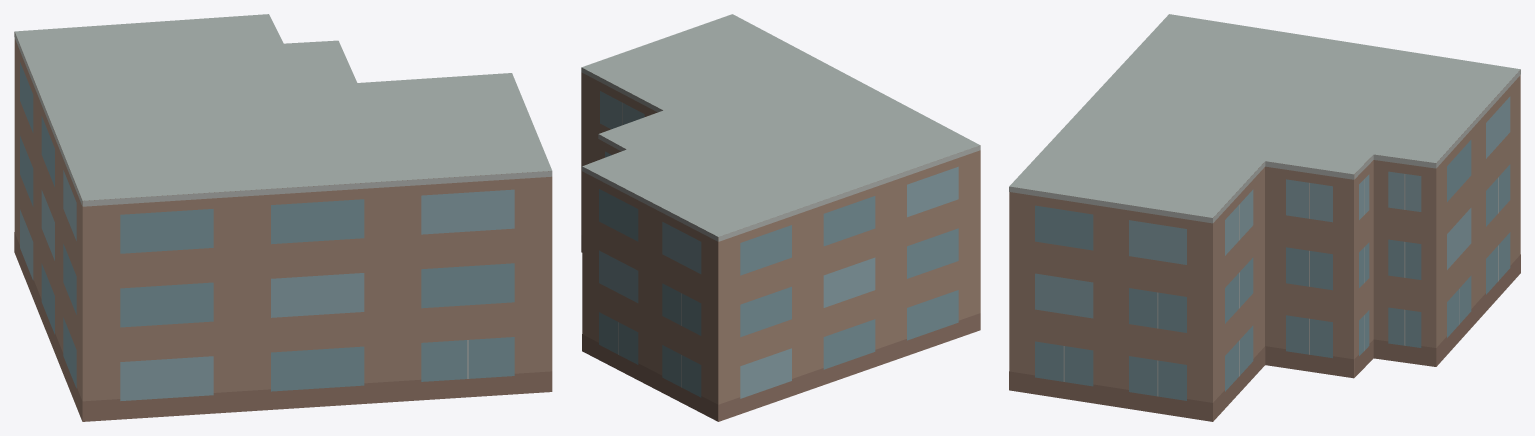
The model's file is survey-upis-32949814.glb.
3 views of the same model, side by side, from view 1: azimuth 30°, elevation 25°; view 2: azimuth 150°, elevation 25°; view 3: azimuth 270°, elevation 25° (orthographic). The views are drawn at different scales.
Visible parts, largest first — view 1: survey-upis-32949814.tmp; view 2: survey-upis-32949814.tmp; view 3: survey-upis-32949814.tmp.
Boxes of the visible parts, x1,y1,x2,y2 form: survey-upis-32949814.tmp: (14,14,552,421); survey-upis-32949814.tmp: (581,14,980,421); survey-upis-32949814.tmp: (1009,14,1520,421).
Bounding box in the file's own units: 19.65 × 9.15 × 20.82.
